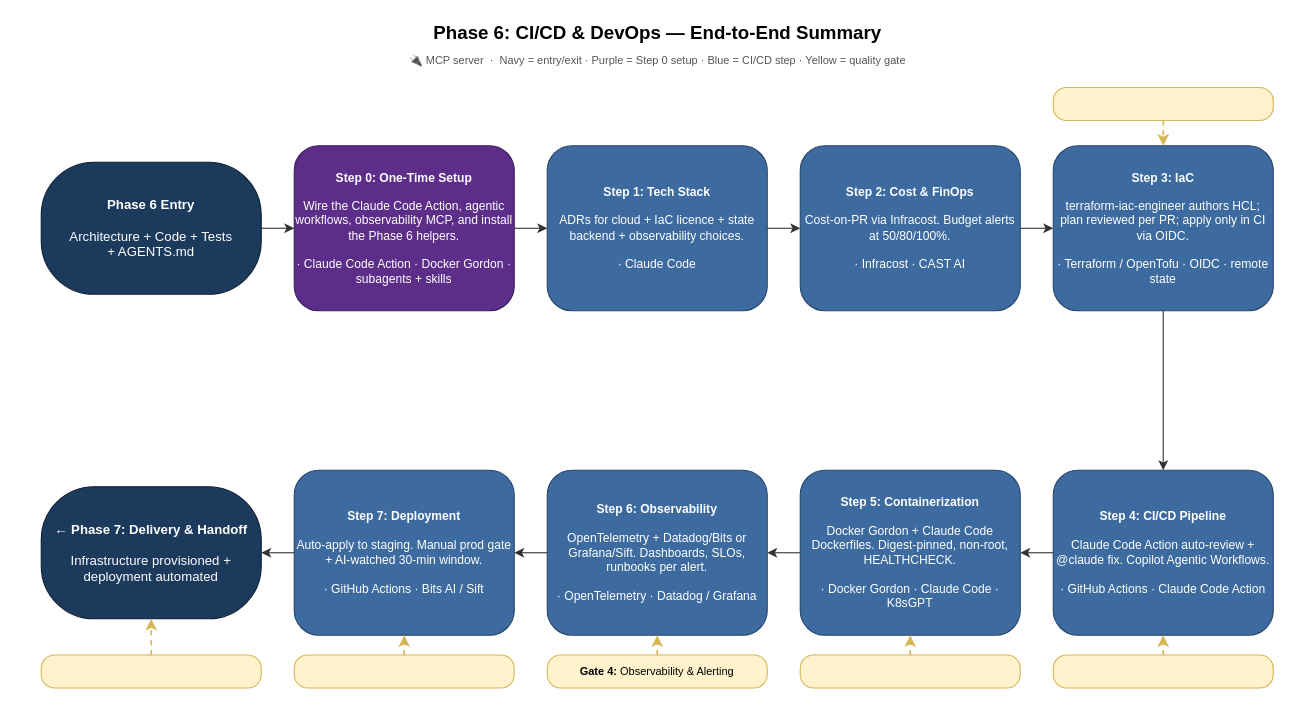
Some shapes in this 1313 by 707 pixel diagram are drawn without their labels. The centre of each missing label's shape, as x and y in pixels:
Gate 1: Infrastructure Foundation: point (1162, 103)
Gate 2: Pipeline Operational: point (1162, 671)
Gate 3: Containerization Standards: point (909, 671)
Gate 5: Deployment & Rollback: point (403, 671)
Gate 6: Phase Handoff: point (150, 671)
